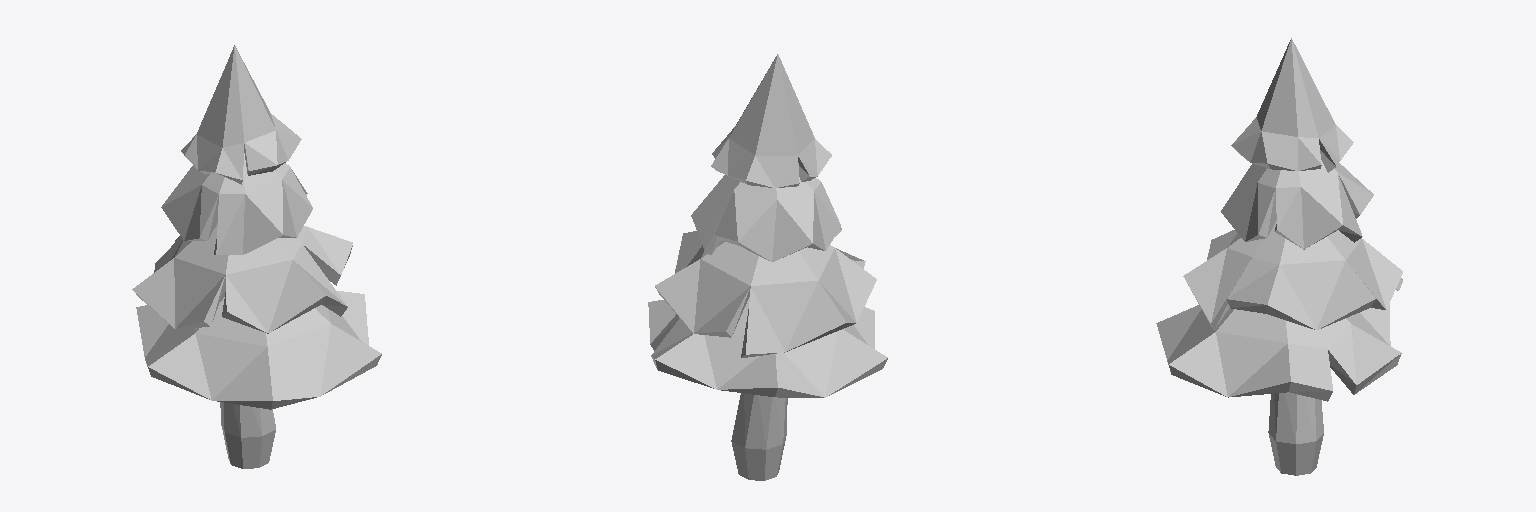
File: tree_pine_yellow_medium.obj
3 renders of one model, left to right at view 1: azimuth 30°, elevation 25°; view 2: azimuth 150°, elevation 25°; view 3: azimuth 270°, elevation 25°, orthographic.
Parts seen in each view (by area): view 1: tree_pine_yellow_medium_Cube.098; view 2: tree_pine_yellow_medium_Cube.098; view 3: tree_pine_yellow_medium_Cube.098.
Part boxes in pixels (left/top/right/bottom): tree_pine_yellow_medium_Cube.098: left=132, top=45, right=381, bottom=468; tree_pine_yellow_medium_Cube.098: left=648, top=54, right=887, bottom=480; tree_pine_yellow_medium_Cube.098: left=1156, top=38, right=1402, bottom=475.
Size of the model in its own units: 3.33 by 5.87 by 3.12.